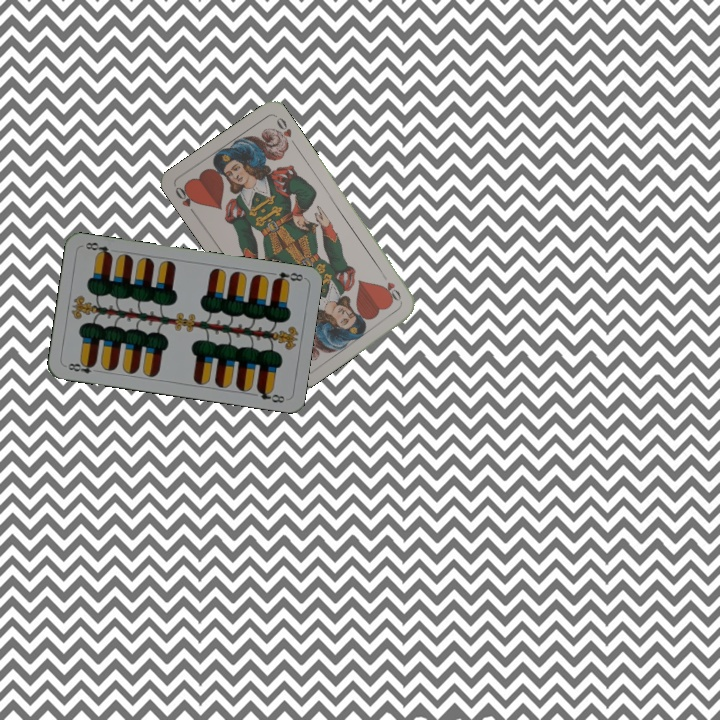E8: (62, 358, 102, 376), (270, 268, 306, 286)
HO: (171, 182, 199, 218), (378, 269, 404, 305)
